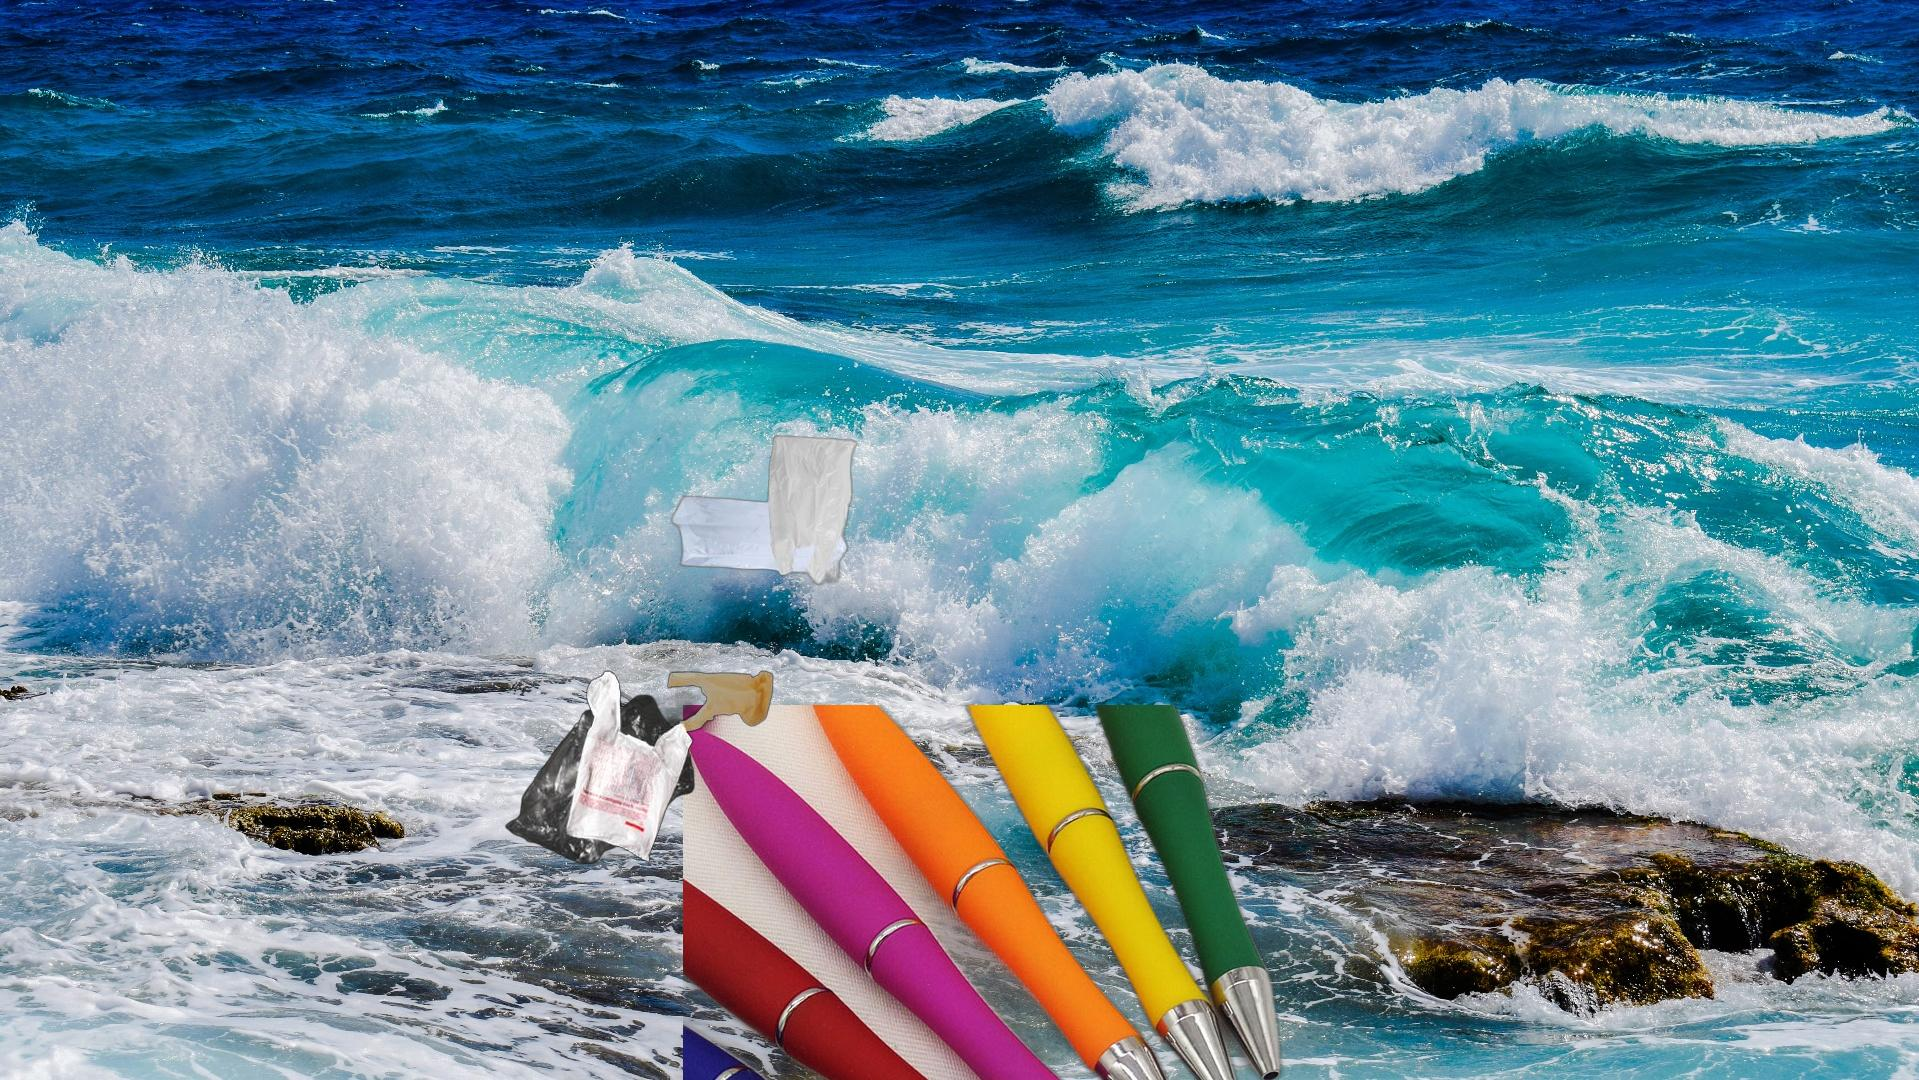penholder: (683, 705, 1288, 1080)
plastic-bag: (503, 669, 775, 866), (668, 433, 861, 588)
